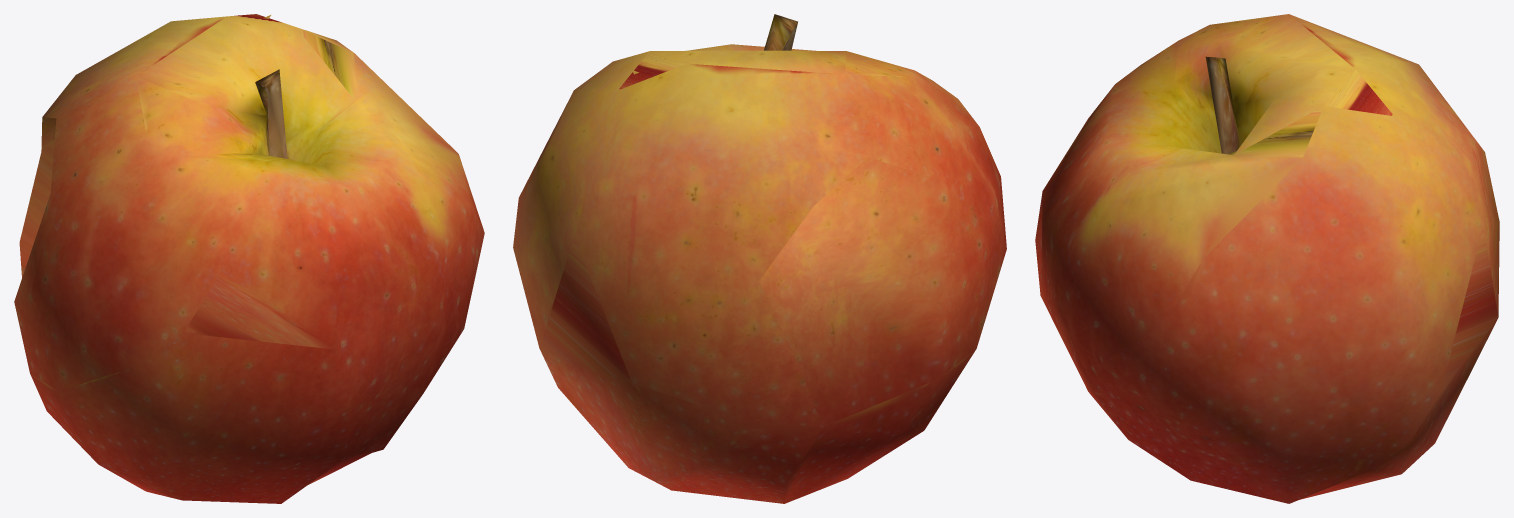
3 views of the same model, side by side, from view 1: azimuth 30°, elevation 25°; view 2: azimuth 150°, elevation 25°; view 3: azimuth 270°, elevation 25° (orthographic).
Visible parts, largest first — view 1: 3DApple002-0; view 2: 3DApple002-0; view 3: 3DApple002-0.
Part boxes in pixels (x1=…): 3DApple002-0: x1=14, y1=14, x2=484, y2=503; 3DApple002-0: x1=513, y1=14, x2=1006, y2=503; 3DApple002-0: x1=1035, y1=14, x2=1499, y2=503.
Size of the model in its own units: 1.03 by 0.9934 by 1.01.
1 material, 1 textured.
